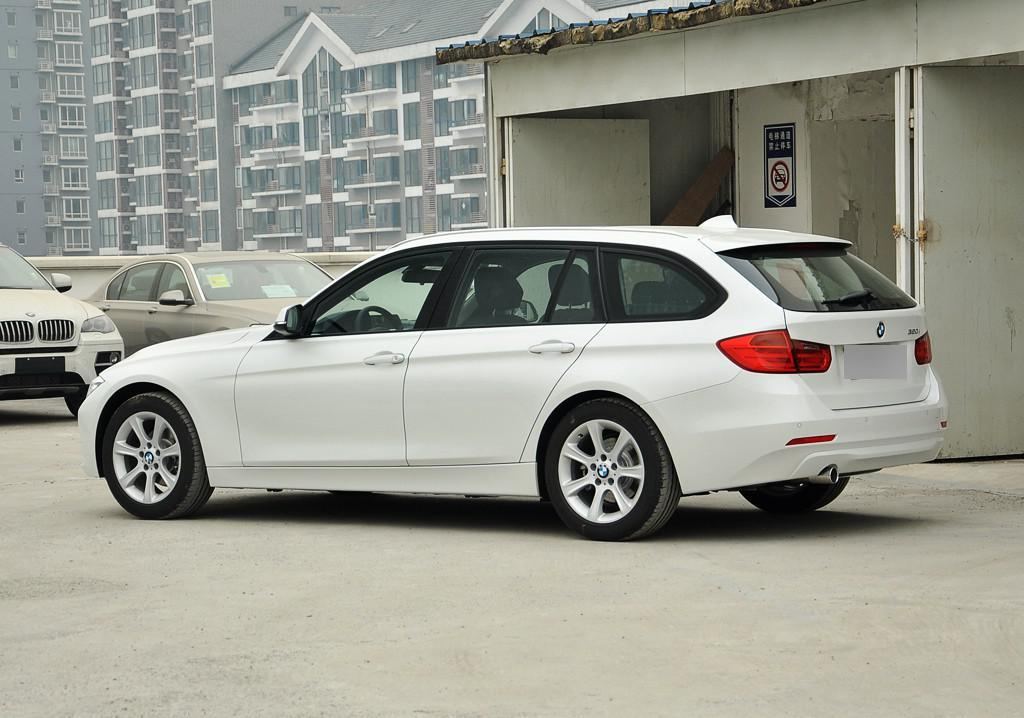Wagon: (77, 212, 951, 542)
